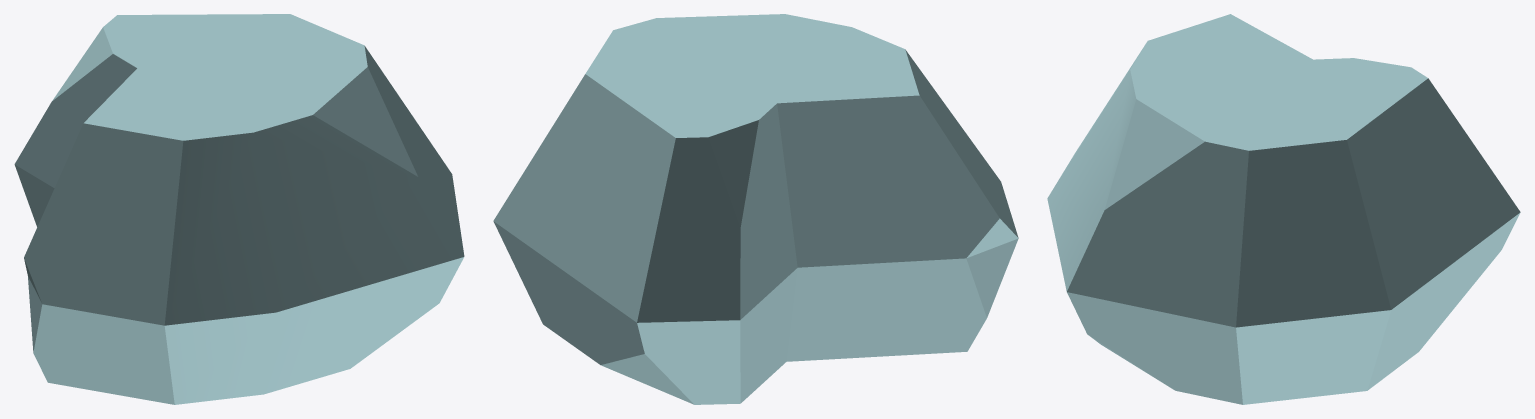
Rendered from stone_large4.obj.
3 views of the same model, side by side, from view 1: azimuth 30°, elevation 25°; view 2: azimuth 150°, elevation 25°; view 3: azimuth 270°, elevation 25° (orthographic). The views are drawn at different scales.
Visible parts, largest first — view 1: stone_large4; view 2: stone_large4; view 3: stone_large4.
Boxes of the visible parts, x1=… form: stone_large4: x1=14, y1=14, x2=464, y2=404; stone_large4: x1=493, y1=14, x2=1018, y2=404; stone_large4: x1=1047, y1=14, x2=1520, y2=404.
Size of the model in its own units: 10.69 by 5.68 by 10.3.
